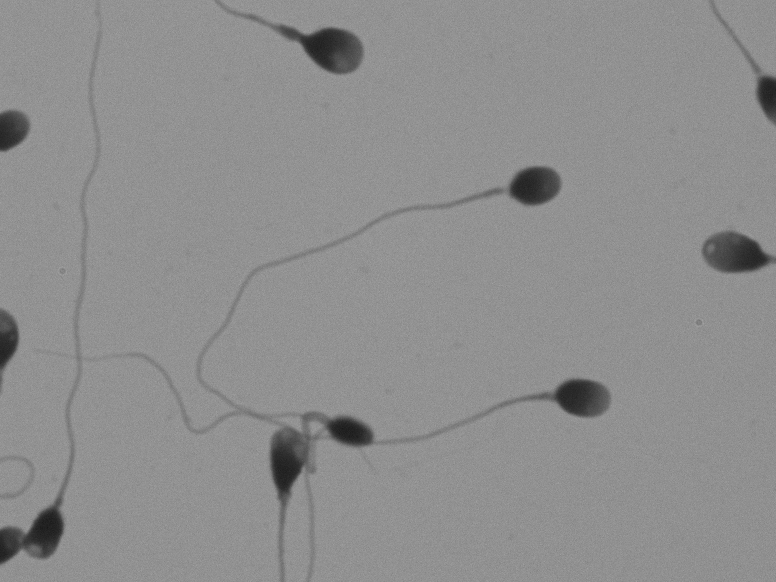Abnormal: (15, 23, 118, 567), (212, 376, 404, 569), (678, 190, 770, 323)
Normal: (178, 132, 593, 361), (376, 310, 651, 508)
